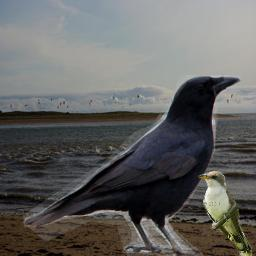Crow: (23, 75, 241, 256)
Cuckoo: (198, 170, 252, 256)
